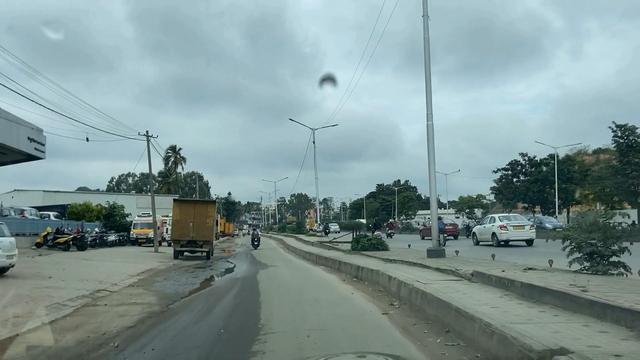HMV: (172, 199, 214, 257)
RoadDamages: (312, 347, 399, 360)
